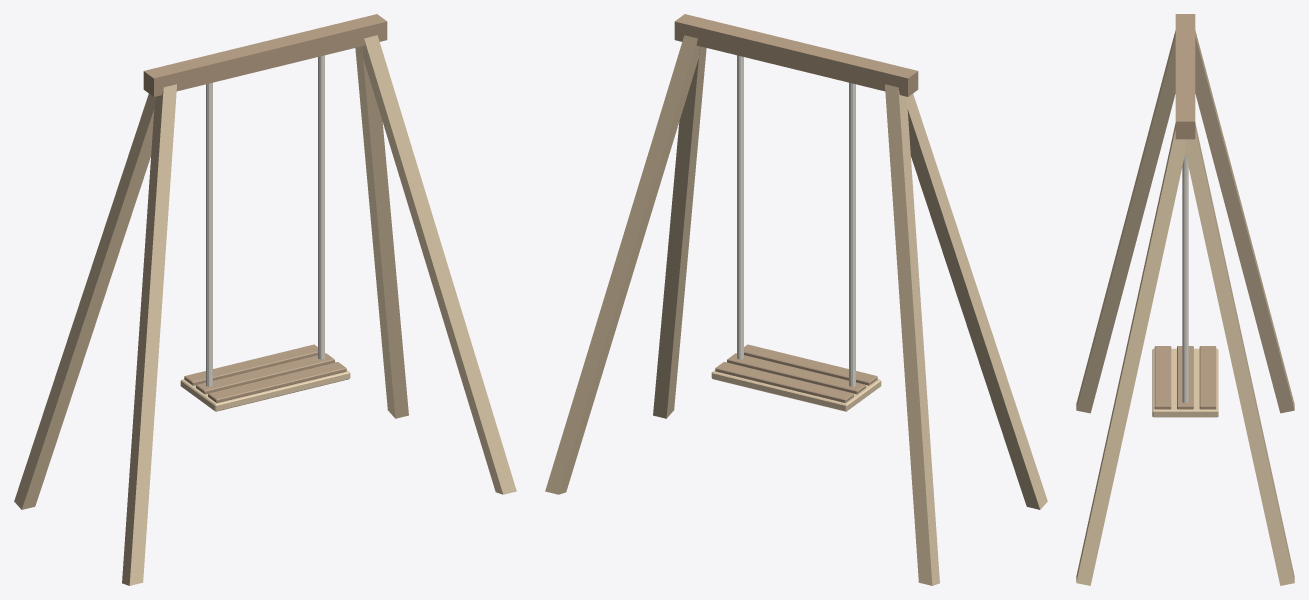
Rendered from jelly-friends-playroom-swing-a-frame-9edc58fb__27636.glb.
3 views of the same model, side by side, from view 1: azimuth 30°, elevation 25°; view 2: azimuth 150°, elevation 25°; view 3: azimuth 270°, elevation 25° (orthographic). The views are drawn at different scales.
Visible parts, largest first — view 1: swing-a-frame, seat/oakDark (×3), seat/linen (×2), seat/oak; view 2: swing-a-frame, seat/oakDark (×3), seat/linen (×2), seat/oak; view 3: swing-a-frame, seat/oakDark (×3), seat/linen, seat/oak.
Boxes of the visible parts, <box> form: swing-a-frame: <box>14,14,516,585</box>; seat/oakDark (×3): <box>184,344,346,402</box>; seat/linen (×2): <box>206,55,324,386</box>; seat/oak: <box>180,361,350,411</box>; swing-a-frame: <box>545,14,1047,585</box>; seat/oakDark (×3): <box>715,344,877,402</box>; seat/linen (×2): <box>737,55,855,386</box>; seat/oak: <box>711,361,881,411</box>; swing-a-frame: <box>1076,14,1294,585</box>; seat/oakDark (×3): <box>1154,346,1216,409</box>; seat/linen: <box>1182,153,1188,402</box>; seat/oak: <box>1152,348,1218,417</box>.
Bounding box in the file's own units: 1.66 × 1.85 × 0.8565.
